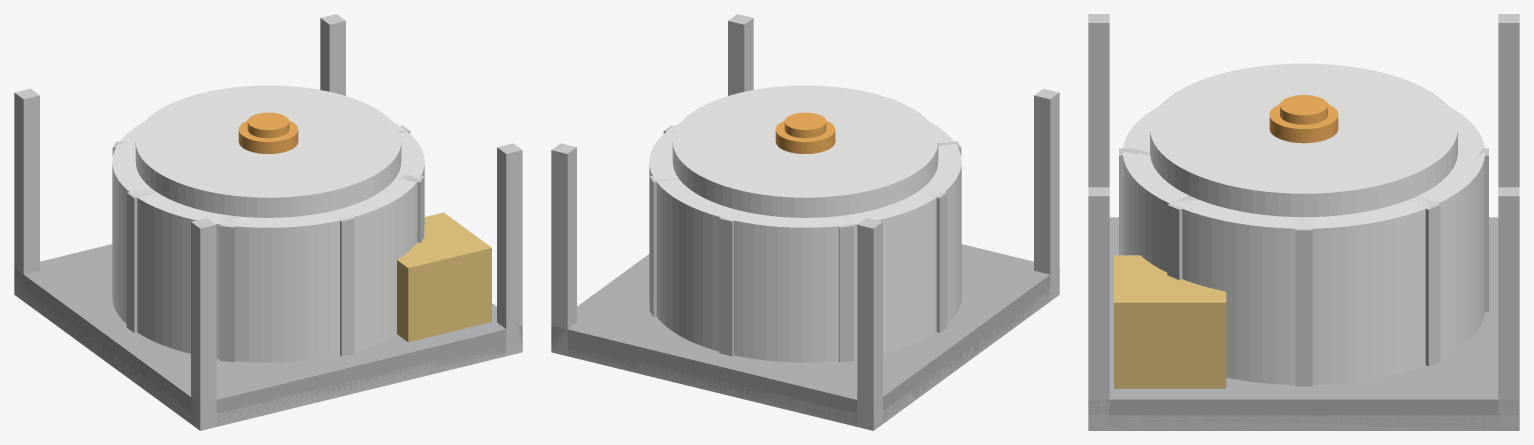
The model's file is power14_reaction_wheel_s.glb.
The picture shows the model from 3 angles, left to right: view 1: azimuth 30°, elevation 25°; view 2: azimuth 150°, elevation 25°; view 3: azimuth 270°, elevation 25°; orthographic projection. The views are drawn at different scales.
Parts seen in each view (by area): view 1: wheel_housing, base_plate, slot_frame, electronics, housing_ribs, port_1; view 2: wheel_housing, base_plate, slot_frame, housing_ribs, port_1; view 3: wheel_housing, slot_frame, base_plate, electronics, housing_ribs, port_1.
Part boxes in pixels (x1,y1,x2,y2): wheel_housing: (112,85,424,362); base_plate: (14,244,522,430); slot_frame: (14,14,522,430); electronics: (397,212,491,342); housing_ribs: (112,125,424,362); port_1: (238,112,298,153); wheel_housing: (649,85,961,362); base_plate: (551,244,1059,430); slot_frame: (551,14,1059,430); housing_ribs: (649,125,961,362); port_1: (775,112,835,153); wheel_housing: (1123,63,1484,384); slot_frame: (1088,14,1519,430); base_plate: (1088,217,1519,430); electronics: (1114,255,1226,388); housing_ribs: (1119,148,1488,386); port_1: (1269,95,1338,143).
Size of the model in its own units: 0.5 by 0.3 by 0.5.
